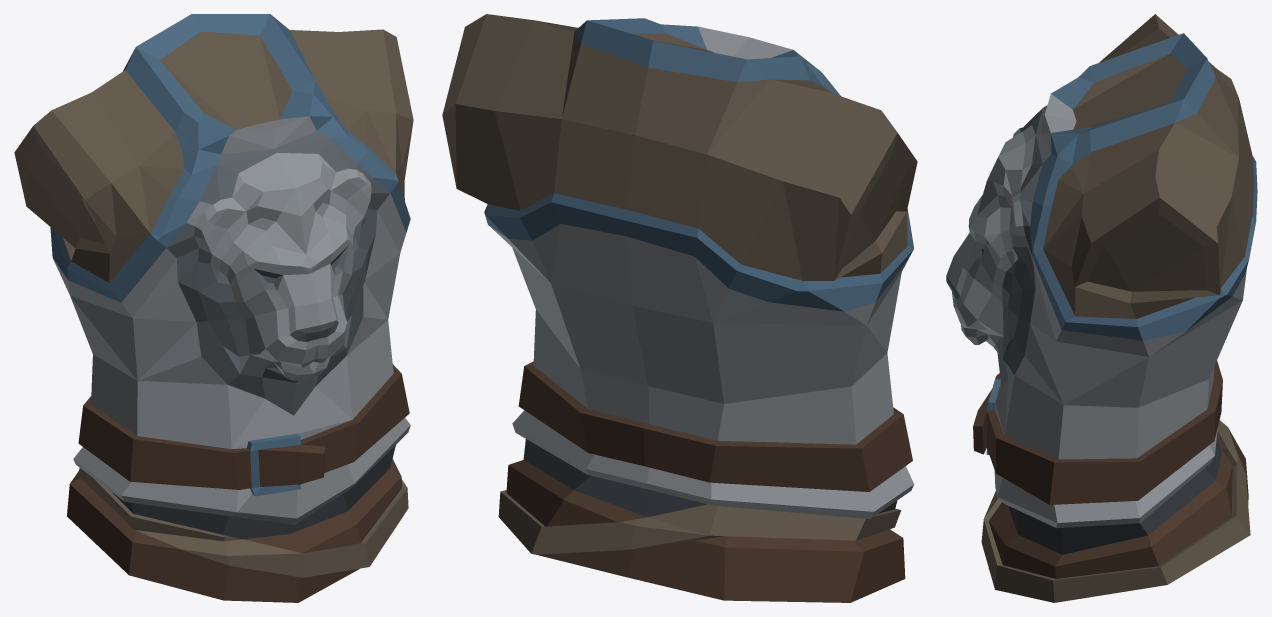
The model's file is Chr_Torso_Male_23_Static.fbx.
3 views of the same model, side by side, from view 1: azimuth 30°, elevation 25°; view 2: azimuth 150°, elevation 25°; view 3: azimuth 270°, elevation 25° (orthographic). The views are drawn at different scales.
Visible parts, largest first — view 1: Chr_Torso_Male_23_Static; view 2: Chr_Torso_Male_23_Static; view 3: Chr_Torso_Male_23_Static.
Part boxes in pixels (x1=…): Chr_Torso_Male_23_Static: x1=14, y1=14, x2=413, y2=602; Chr_Torso_Male_23_Static: x1=442, y1=14, x2=917, y2=602; Chr_Torso_Male_23_Static: x1=946, y1=14, x2=1257, y2=602.
Size of the model in its own units: 0.5049 by 0.6757 by 0.3725.
